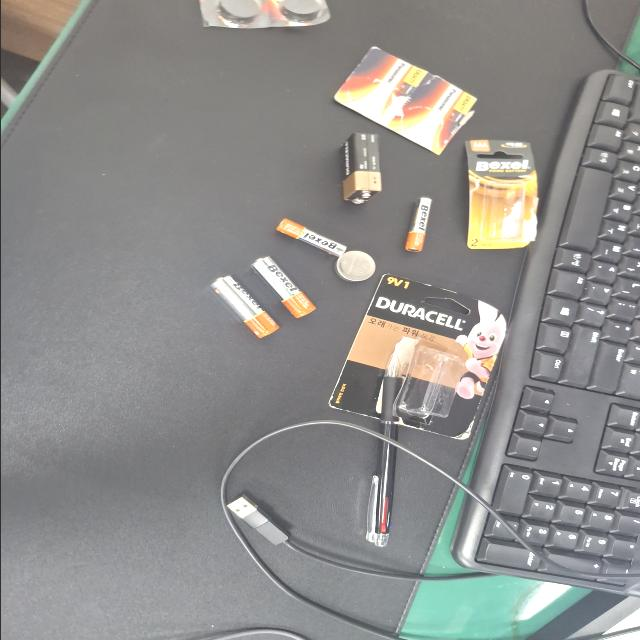9V: (368, 255, 462, 285)
AA: (190, 158, 272, 208), (216, 188, 298, 236)
AAA: (297, 207, 348, 259), (305, 304, 377, 324)
COIN: (265, 250, 306, 280)
